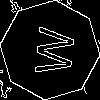W: (25, 25, 75, 77)
